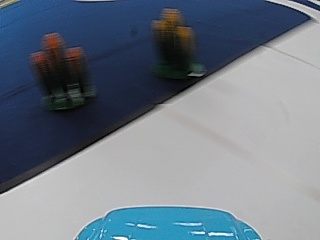tractor: (29, 29, 93, 114), (151, 5, 197, 81)
